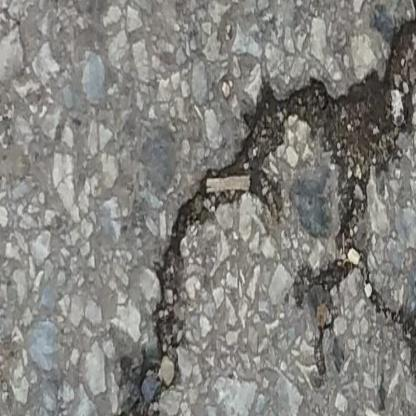Cracks: (103, 0, 416, 416)
